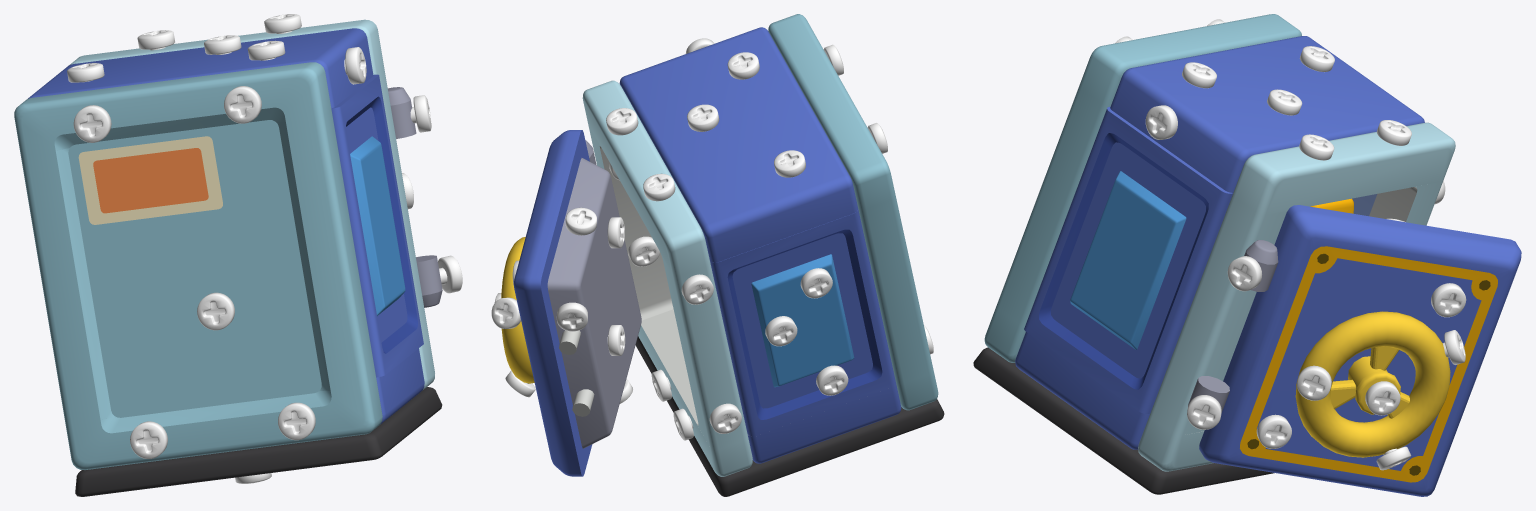
File: CashBox.fbx
The picture shows the model from 3 angles, left to right: view 1: azimuth 30°, elevation 25°; view 2: azimuth 150°, elevation 25°; view 3: azimuth 270°, elevation 25°; orthographic projection. The views are drawn at different scales.
Parts seen in each view (by area): view 1: CashBox_026, CashBox_018, CashBox_013, CashBox_025, CashBox_017, CashBox_023, Screw (×4), CashBox_020, Screw (2) (×3), CashBox_007, CashBox_024, CashBox_019 (+5 smaller); view 2: CashBox_023, CashBox_012, CashBox_006, CashBox_007, CashBox_020, CashBox_018, CashBox_026, CashBox_022, CashBox_017, CashBox_024, CashBox_021, Screw (×5) (+9 smaller); view 3: CashBox_007, CashBox_013, CashBox_023, CashBox_011, CashBox_020, CashBox_019, CashBox_026, CashBox_017, CashBox_018, CashBox_024, CashBox_021, Screw (×3) (+9 smaller).
Boxes of the visible parts, x1=… form: CashBox_026: x1=20, y1=110, x2=376, y2=424; CashBox_018: x1=14, y1=62, x2=331, y2=154; CashBox_013: x1=331, y1=74, x2=423, y2=377; CashBox_025: x1=65, y1=379, x2=382, y2=469; CashBox_017: x1=75, y1=387, x2=442, y2=496; CashBox_023: x1=28, y1=28, x2=373, y2=108; Screw (×4): x1=197, y1=14, x2=315, y2=440; CashBox_020: x1=70, y1=19, x2=383, y2=74; Screw (2) (×3): x1=67, y1=30, x2=261, y2=123; CashBox_007: x1=387, y1=87, x2=442, y2=307; CashBox_024: x1=376, y1=348, x2=424, y2=424; CashBox_019: x1=373, y1=67, x2=428, y2=340; CashBox_023: x1=619, y1=27, x2=858, y2=262; CashBox_012: x1=710, y1=209, x2=895, y2=436; CashBox_006: x1=547, y1=158, x2=641, y2=448; CashBox_007: x1=513, y1=130, x2=596, y2=476; CashBox_020: x1=582, y1=80, x2=709, y2=275; CashBox_018: x1=768, y1=14, x2=895, y2=209; CashBox_026: x1=858, y1=196, x2=933, y2=383; CashBox_022: x1=660, y1=252, x2=747, y2=449; CashBox_017: x1=635, y1=336, x2=944, y2=496; CashBox_024: x1=747, y1=383, x2=901, y2=463; CashBox_021: x1=638, y1=309, x2=752, y2=476; Screw (×5): x1=606, y1=104, x2=848, y2=395; CashBox_007: x1=1188, y1=205, x2=1521, y2=496; CashBox_013: x1=1024, y1=106, x2=1232, y2=413; CashBox_023: x1=1110, y1=36, x2=1424, y2=192; CashBox_011: x1=1295, y1=311, x2=1450, y2=457; CashBox_020: x1=1232, y1=122, x2=1455, y2=214; CashBox_019: x1=1149, y1=195, x2=1287, y2=435; CashBox_026: x1=996, y1=86, x2=1110, y2=326; CashBox_017: x1=973, y1=347, x2=1274, y2=494; CashBox_018: x1=1079, y1=14, x2=1301, y2=106; CashBox_024: x1=1015, y1=332, x2=1149, y2=449; CashBox_021: x1=1138, y1=415, x2=1213, y2=471; Screw (×3): x1=1267, y1=89, x2=1400, y2=415.
Size of the model in its own units: 9.19 by 9.73 by 11.24.
2 materials, 1 textured.
